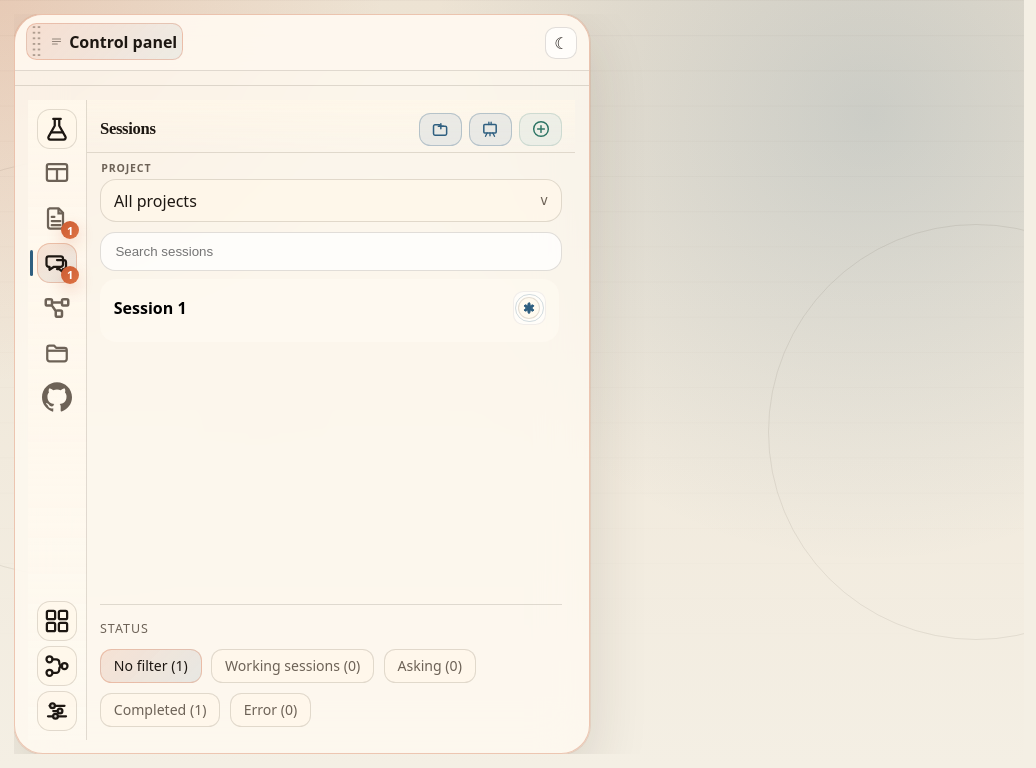
it: App session lifecycle › does not arm the active-prompt poll when an adopted send response is idle
Click the button "Session 1" at [150, 308], box [100,279,559,342]
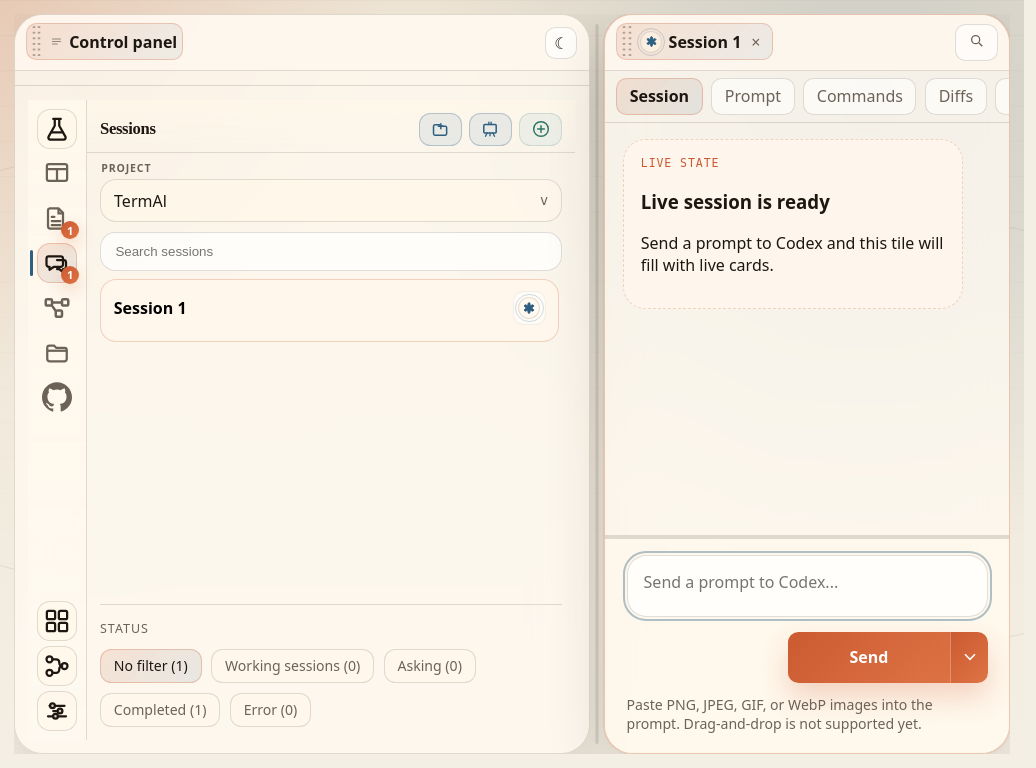
Type "Finish immediately" into the text box named "Message Session 1" at [807, 586], box [627,555,988,617]
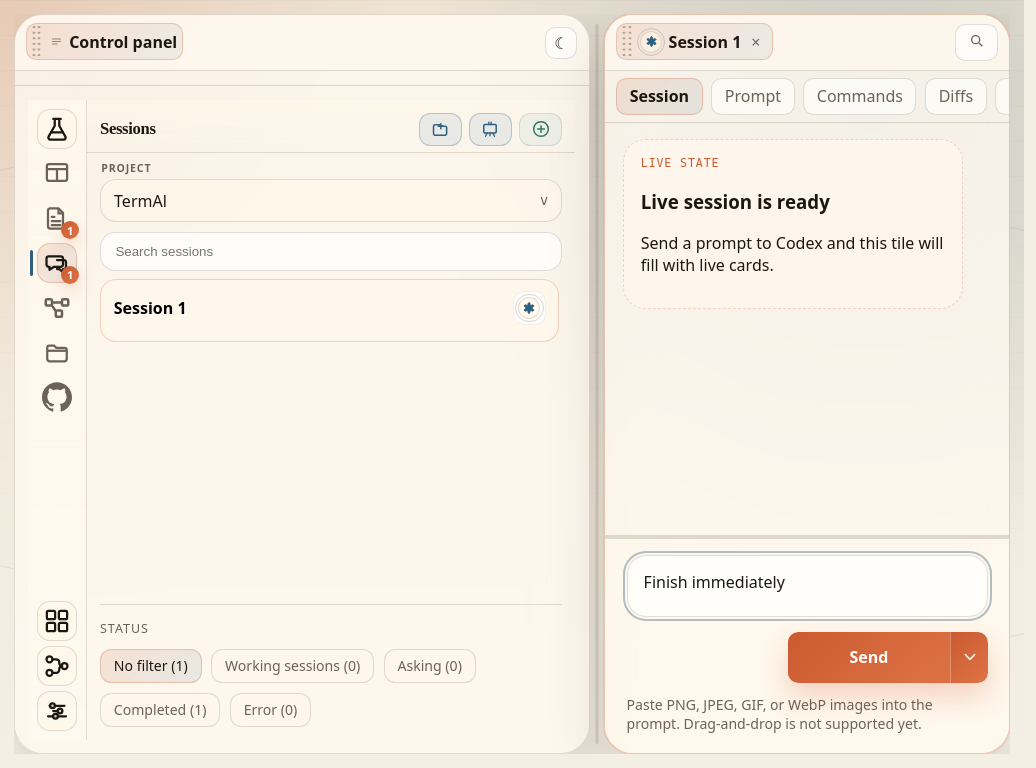
Click the button "Send" at [869, 657], box [788,632,950,683]
Wait 30009 ms
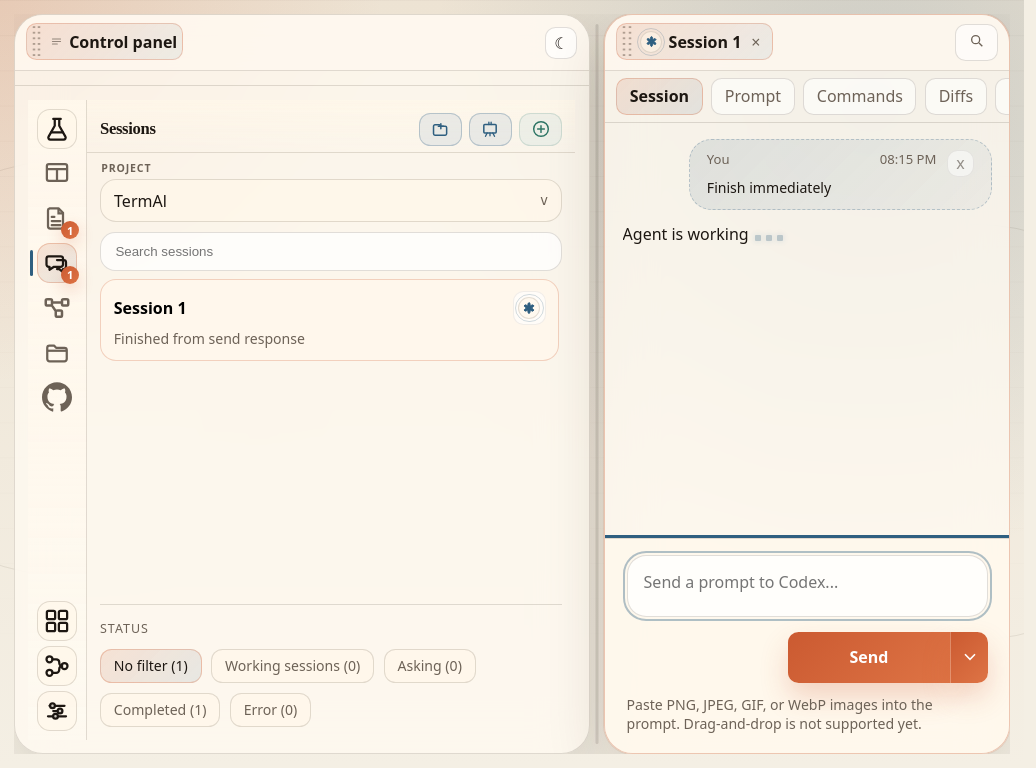
Now the text box named "Message Session 1" is empty, box [627,555,988,617]
Now the text "Finished from send response" is shown, box [114,329,305,348]
